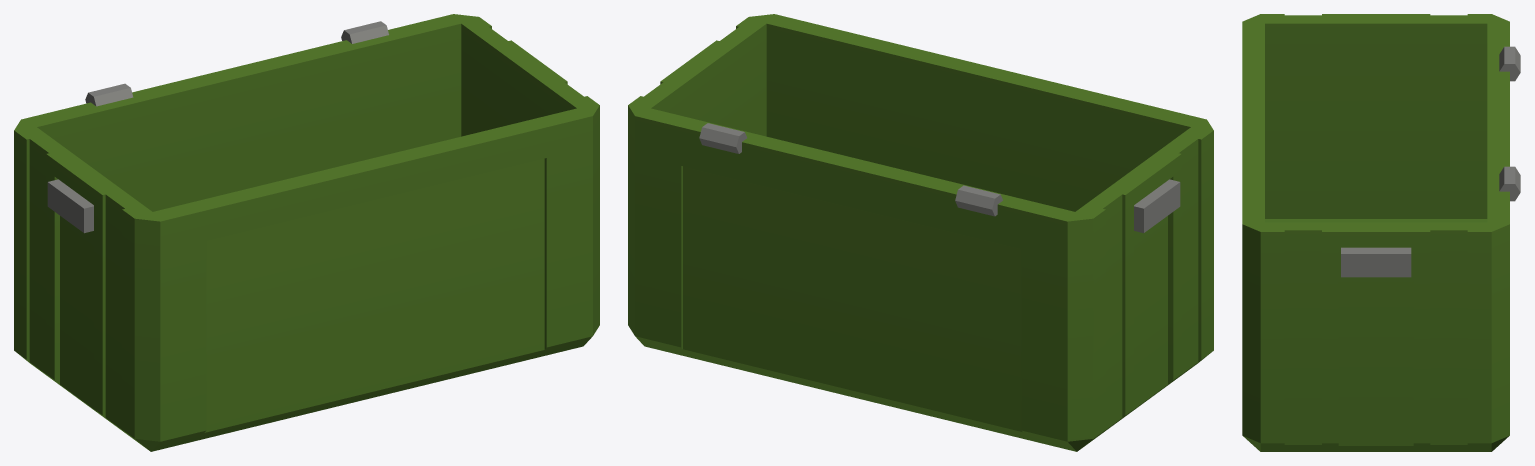
Rendered from AmoBox_01.fbx.
The picture shows the model from 3 angles, left to right: view 1: azimuth 30°, elevation 25°; view 2: azimuth 150°, elevation 25°; view 3: azimuth 270°, elevation 25°; orthographic projection. The views are drawn at different scales.
Visible parts, largest first — view 1: AmoBox_01; view 2: AmoBox_01; view 3: AmoBox_01.
Boxes of the visible parts, x1=… form: AmoBox_01: x1=14, y1=14, x2=599, y2=451; AmoBox_01: x1=628, y1=14, x2=1213, y2=451; AmoBox_01: x1=1242, y1=14, x2=1520, y2=451.
Size of the model in its own units: 0.978 by 0.4751 by 0.5092.
